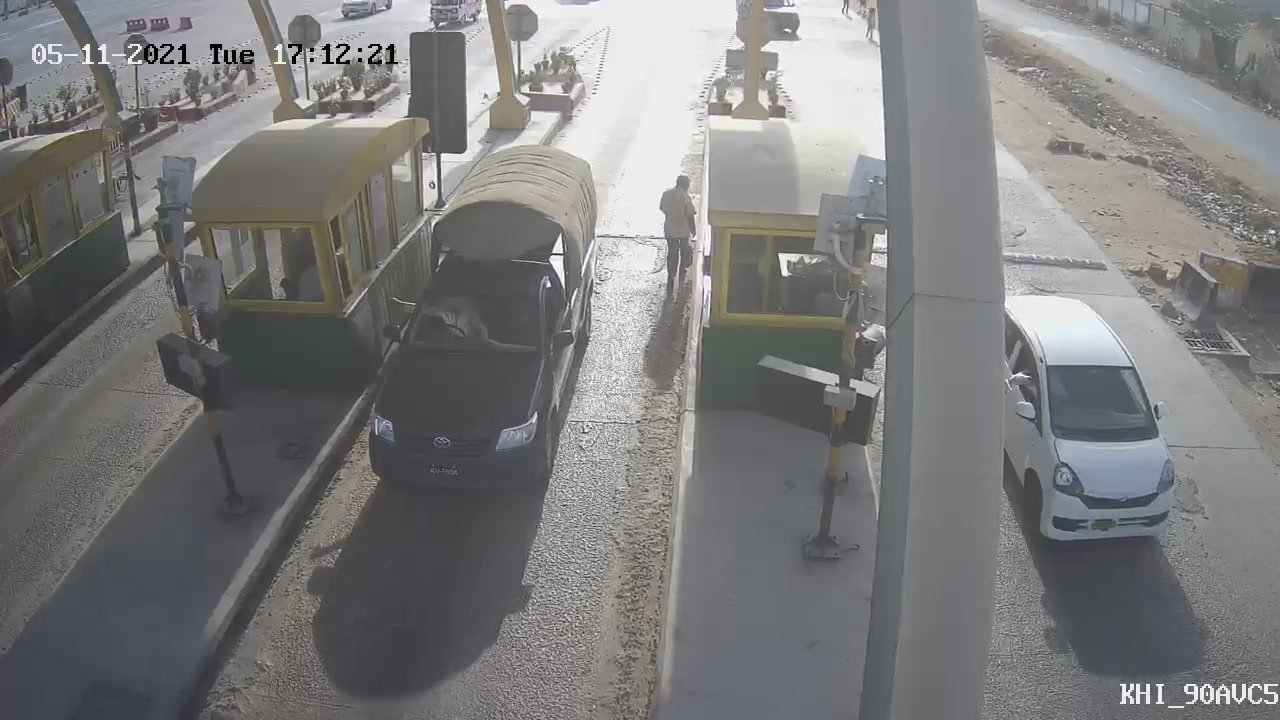F1: (346, 124, 637, 516)
